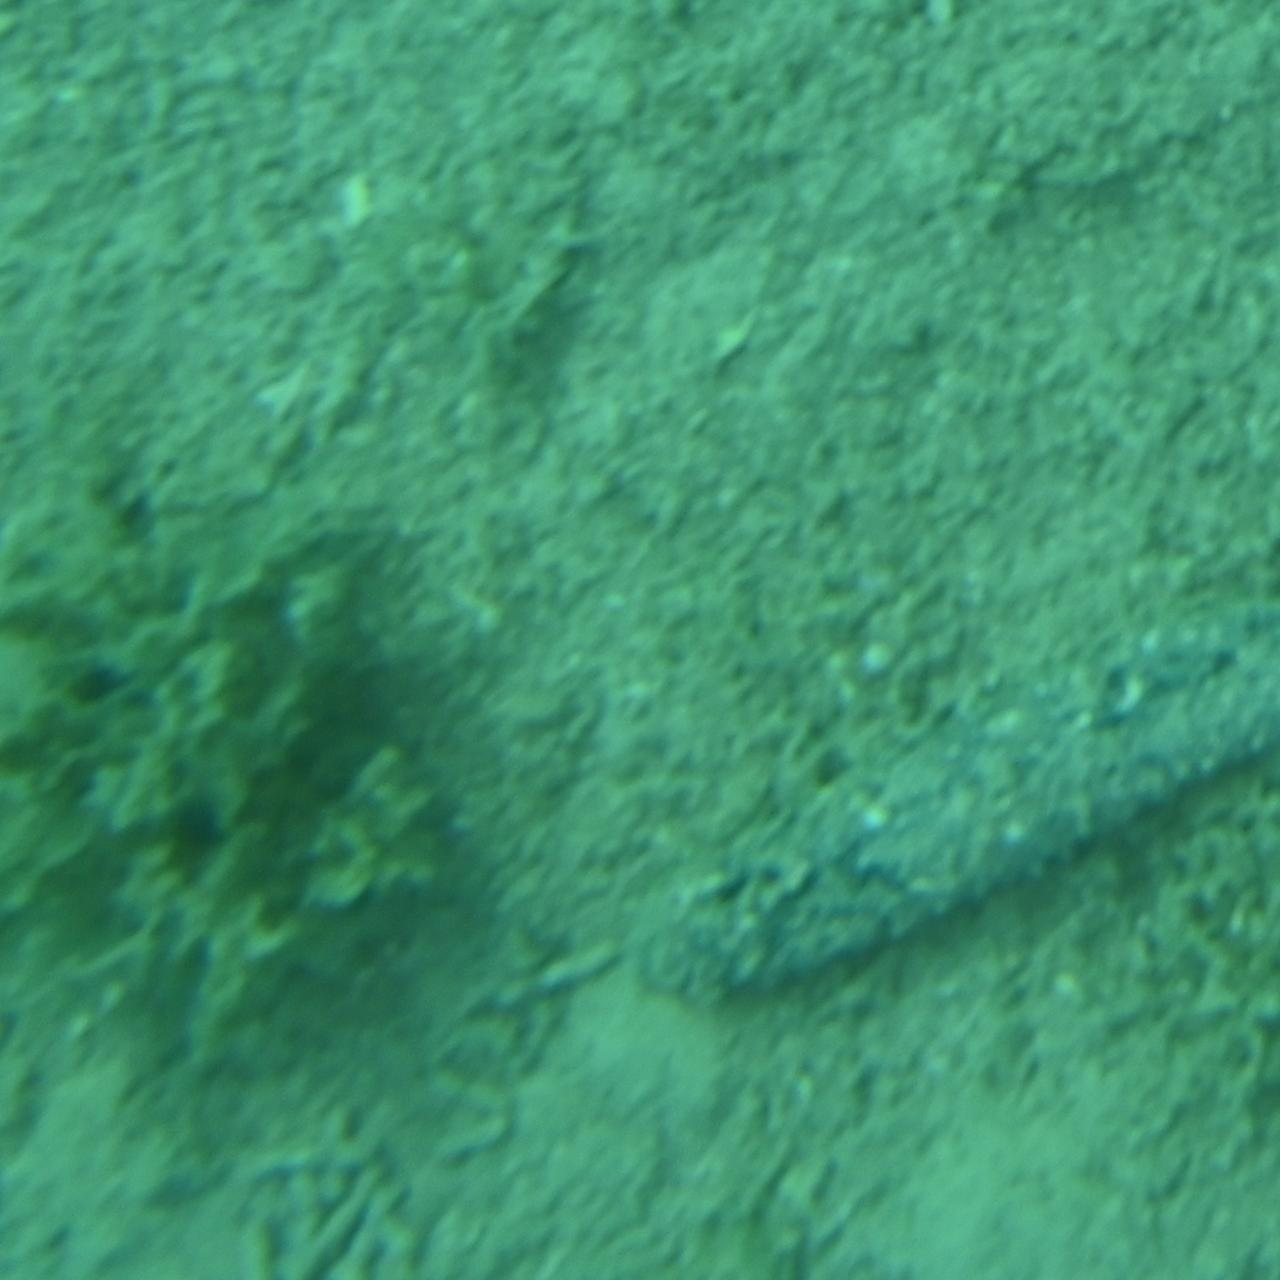Holothuria tubulosa: (627, 602, 1280, 1046)
Phaeophyceae -cfr Cystoseira-: (0, 515, 470, 1070)
